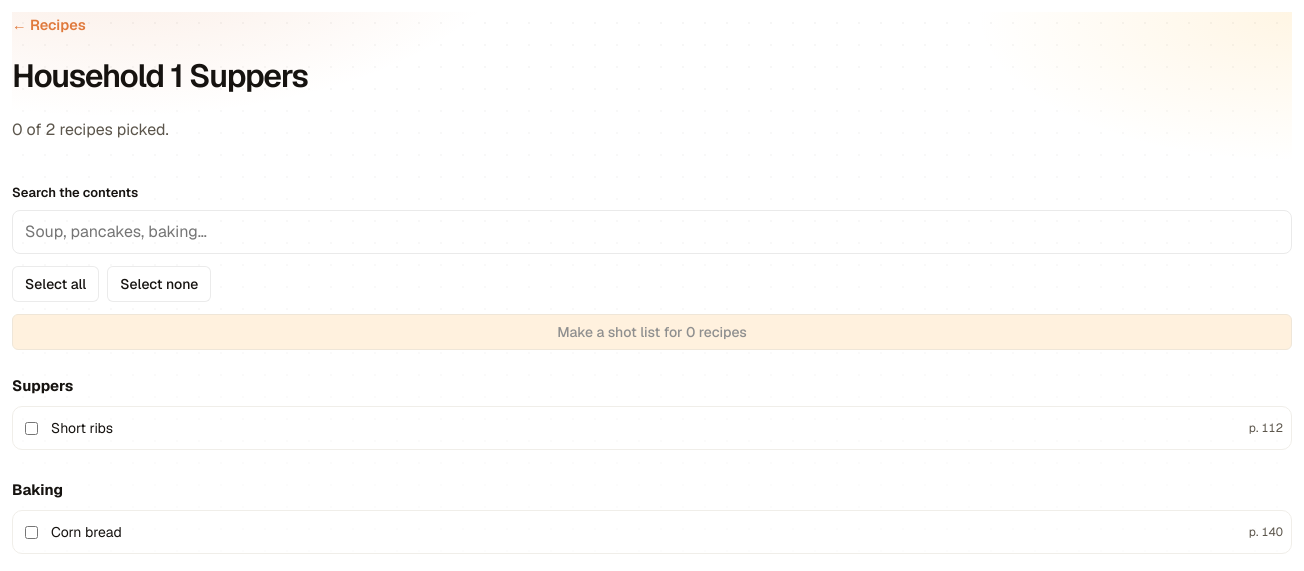
Test: BookShotList picks › saves select-all, select-none, and a single toggle
Expected: the text "0 of 2 recipes picked." is shown, left=12, top=119, right=169, bottom=140
Click the button "Select all" at coordinates (56, 284), box left=12, top=266, right=99, bottom=302
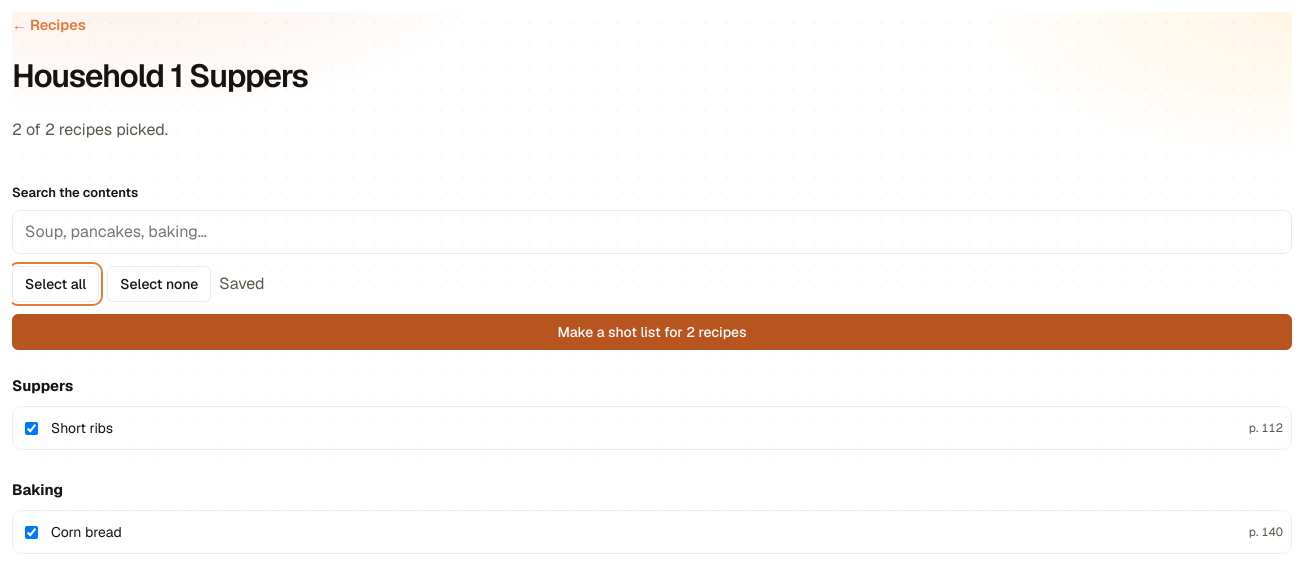
Now the text "Saved" is shown, box left=219, top=271, right=265, bottom=297
Now the text "2 of 2 recipes picked." is shown, box left=12, top=119, right=168, bottom=140
Now the button "Make a shot list for 2 recipes" is enabled, box left=12, top=314, right=1292, bottom=350
Click the checkbox labelled "Corn bread p. 140" at coordinates (32, 532), box left=25, top=526, right=38, bottom=539
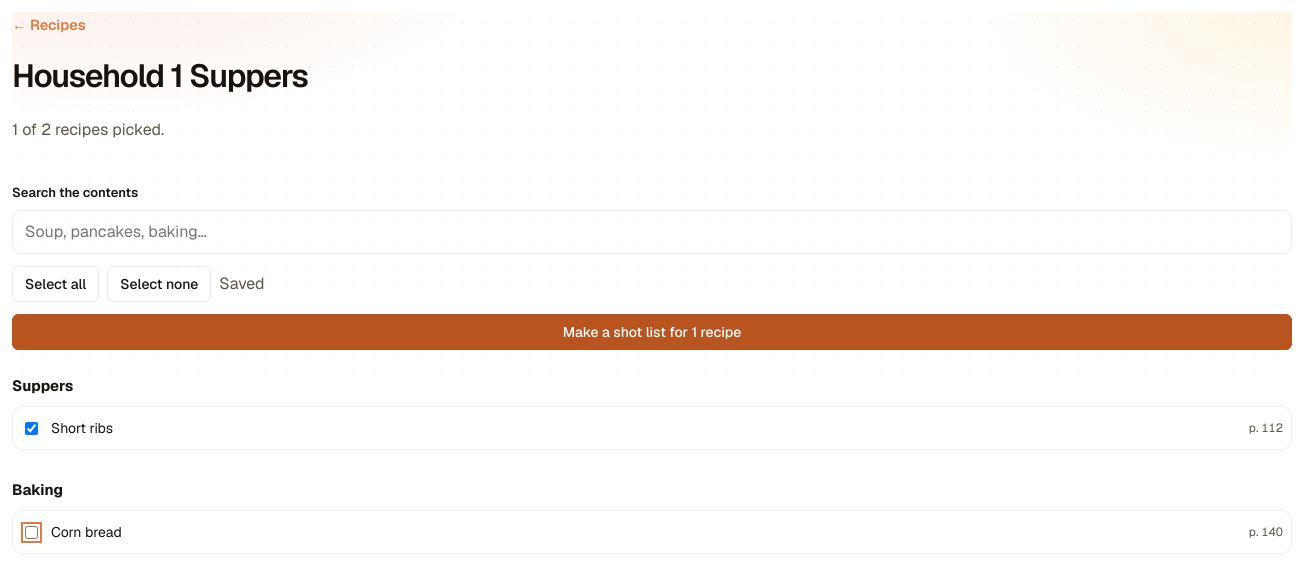
Now the checkbox labelled "Corn bread p. 140" is not checked, box left=25, top=526, right=38, bottom=539
Now the button "Make a shot list for 1 recipe" is enabled, box left=12, top=314, right=1292, bottom=350
Click the button "Select none" at coordinates (159, 284), box left=107, top=266, right=211, bottom=302
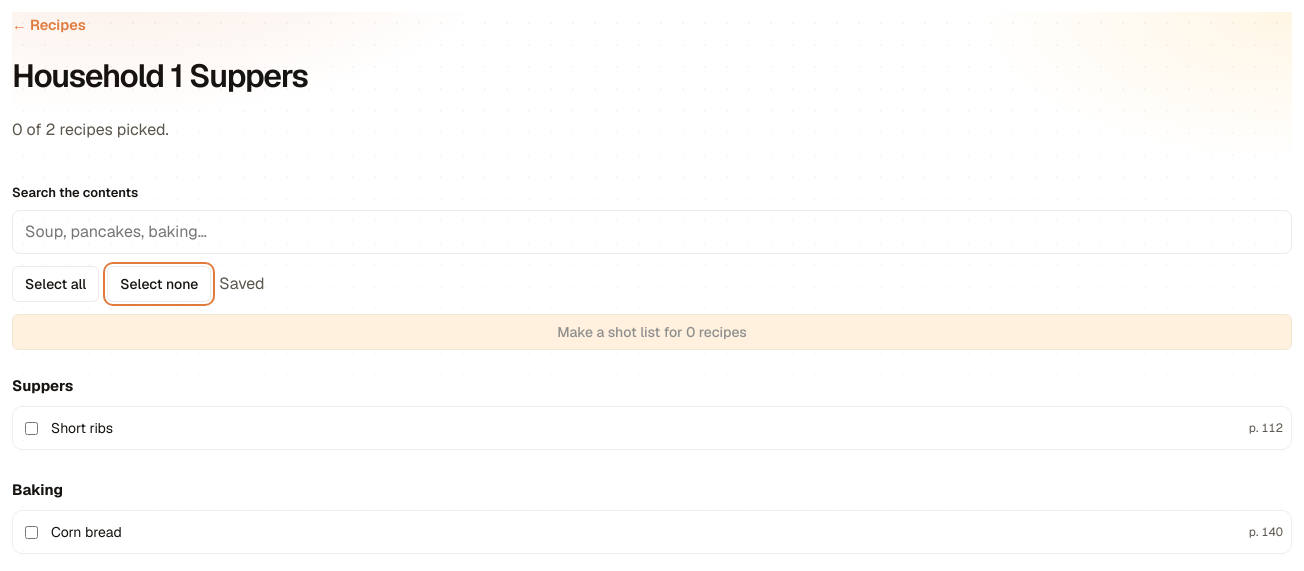
Now the text "0 of 2 recipes picked." is shown, box left=12, top=119, right=169, bottom=140
Now the button "Make a shot list for 0 recipes" is disabled, box left=12, top=314, right=1292, bottom=350
